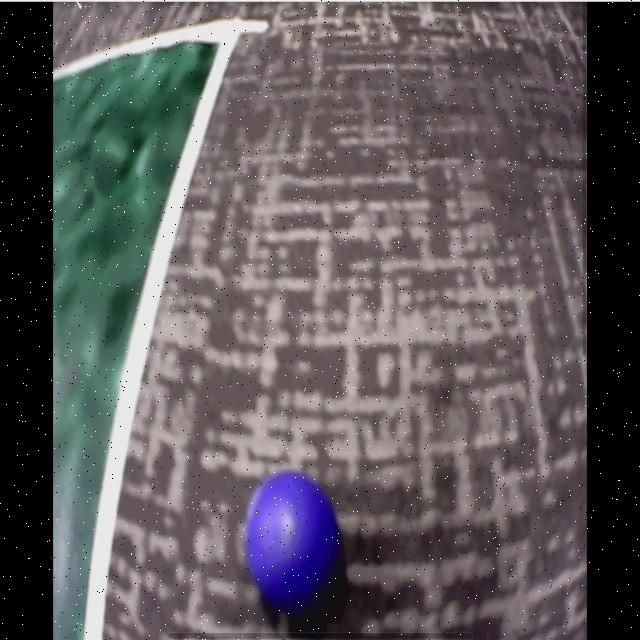ball: (248, 474, 338, 607)
